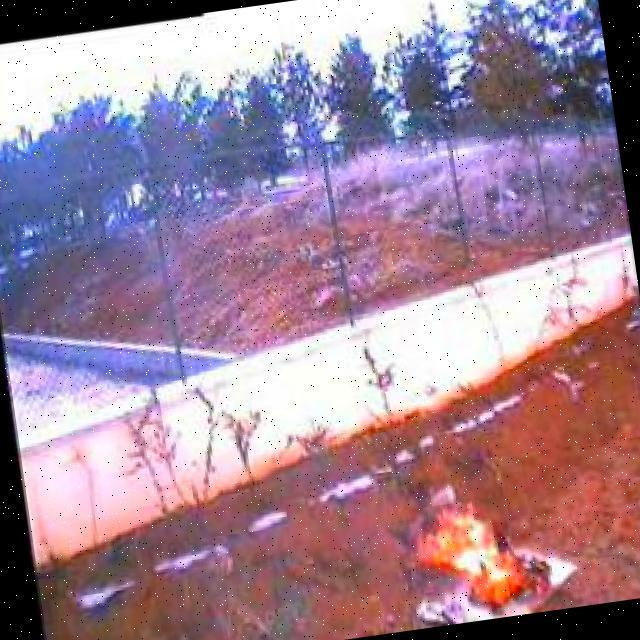Fire: (390, 471, 561, 631)
